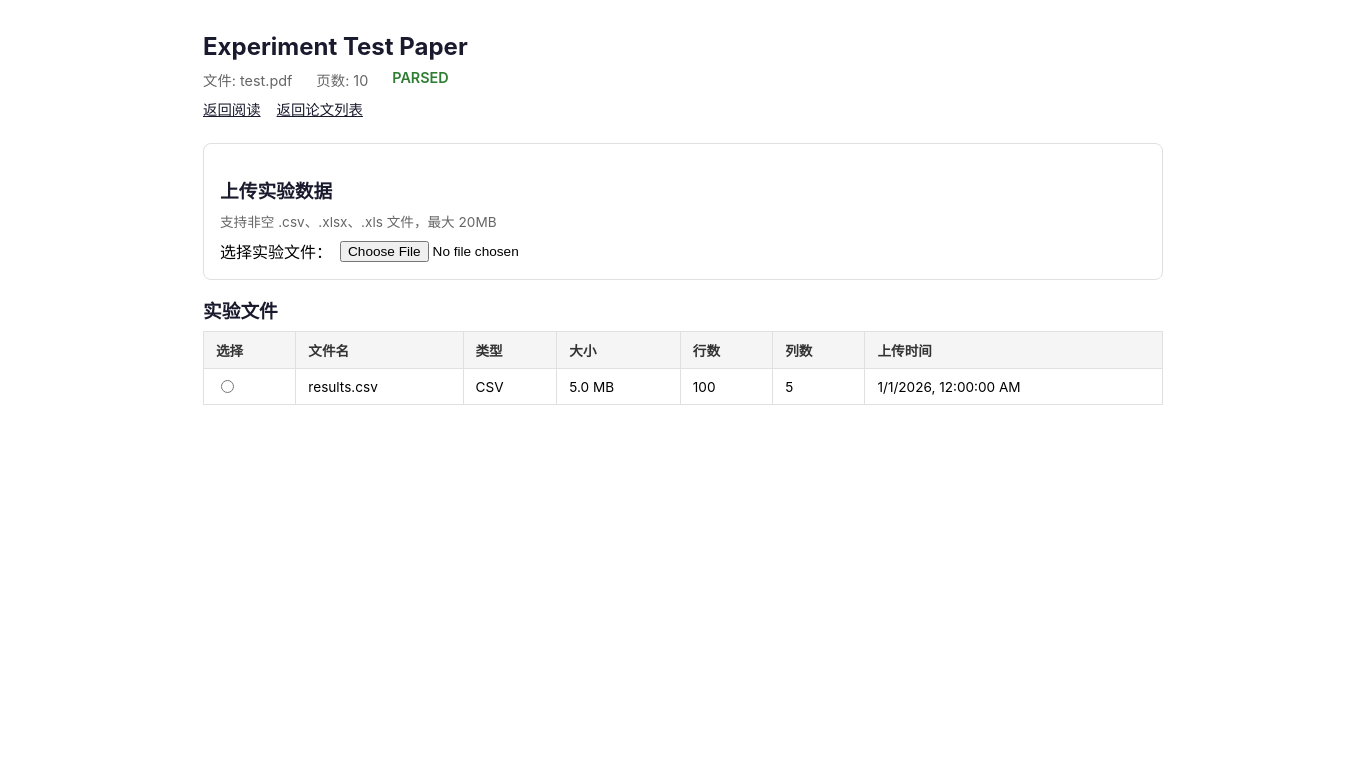
it: ExperimentDataView › create analysis 201 starts polling
Click the row with class "file-row": point(683, 386) [204,368,1162,404]
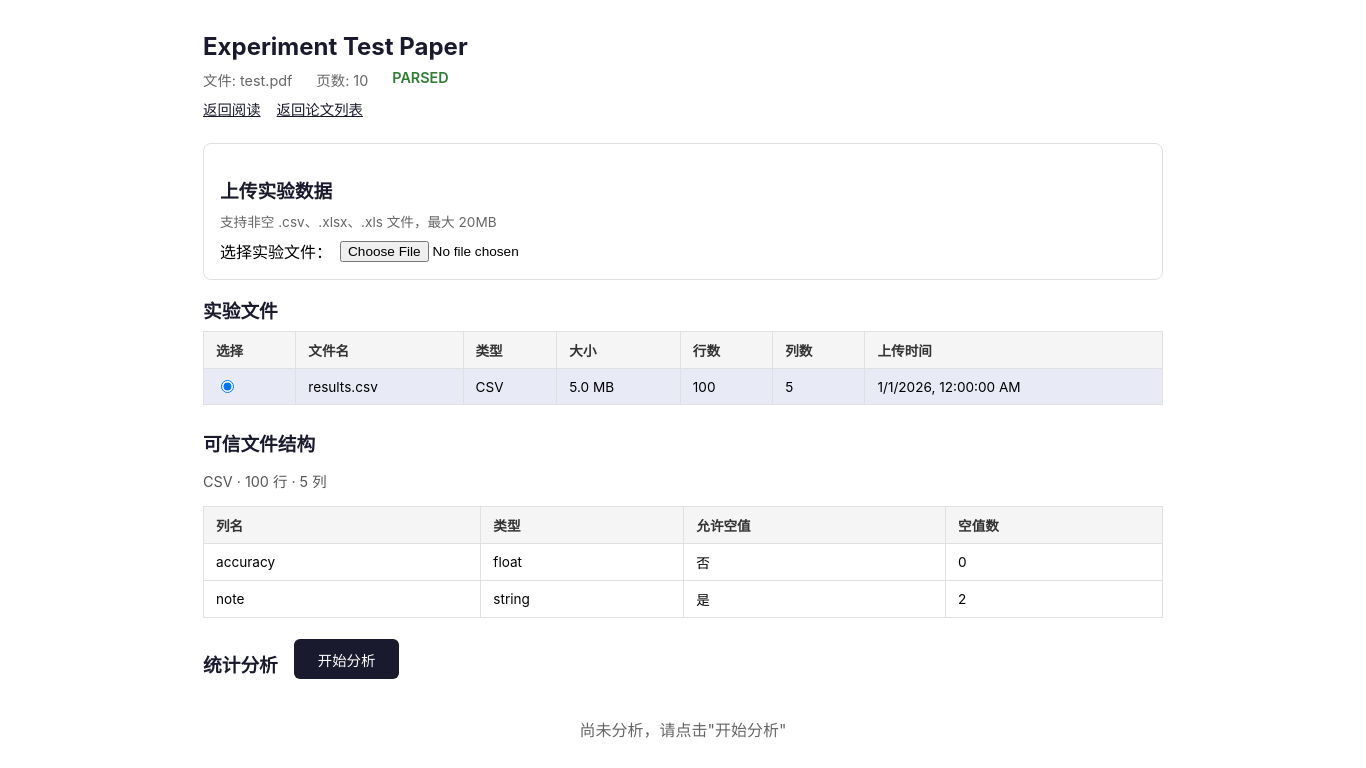
Click the button "开始分析": point(347, 659) [294,639,399,679]
(page scrolled)
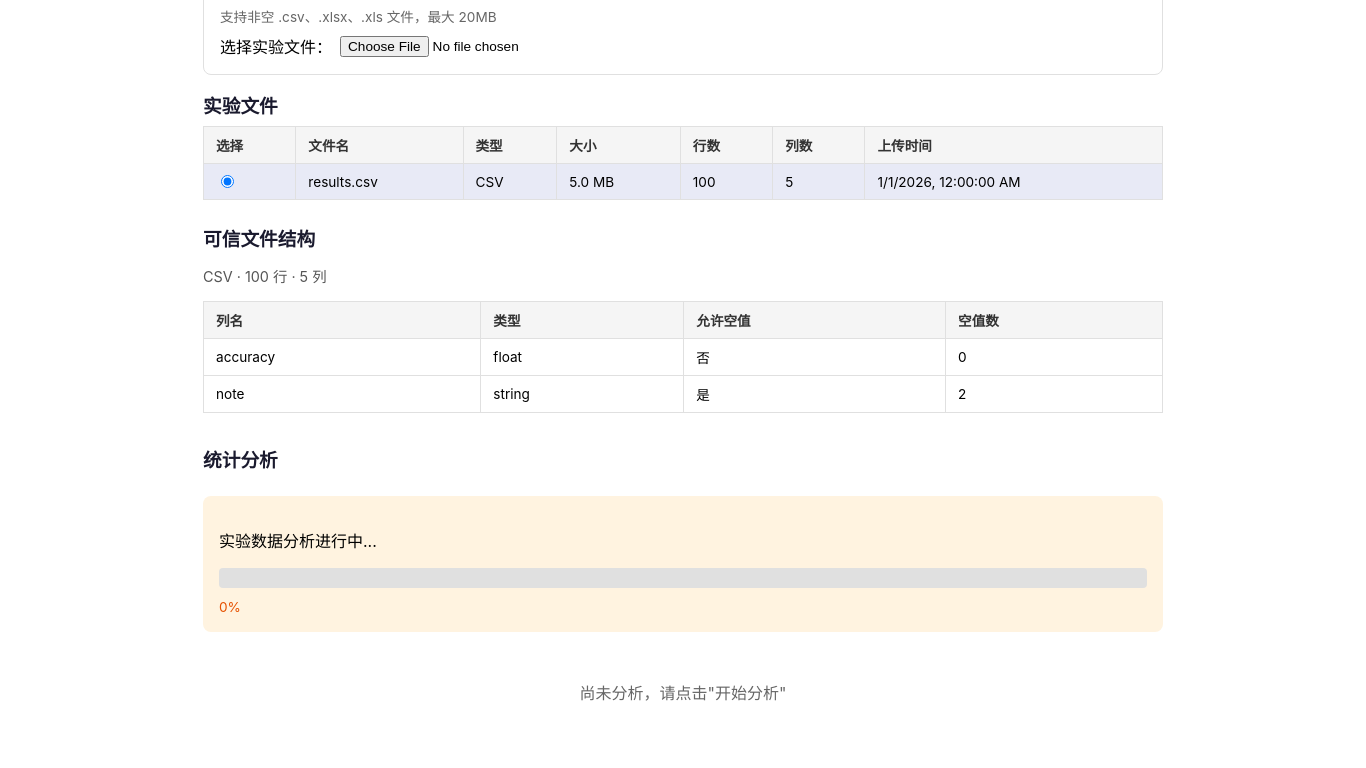
Expected: the element with class "task-progress" is shown, [203,496,1163,632]
